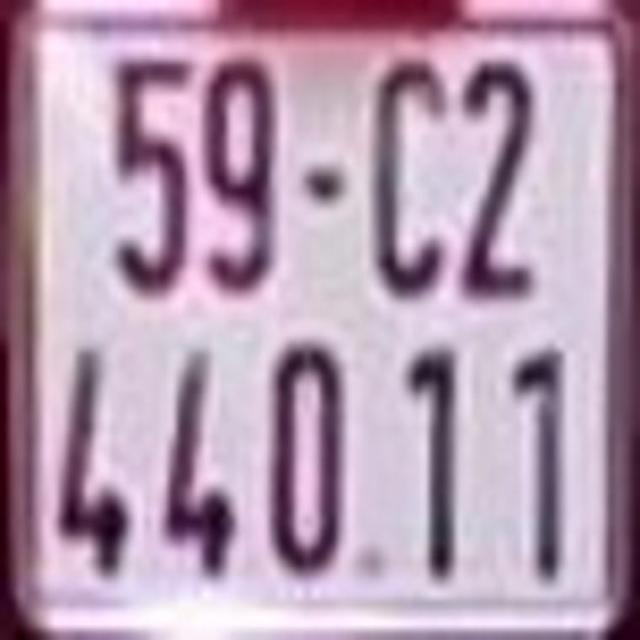0: (272, 343, 347, 571)
1: (512, 343, 570, 588), (405, 340, 463, 582)
2: (465, 59, 544, 304)
4: (160, 334, 243, 580), (63, 349, 133, 582)
5: (114, 56, 188, 296)
9: (204, 50, 288, 293)
C: (374, 56, 452, 295)
